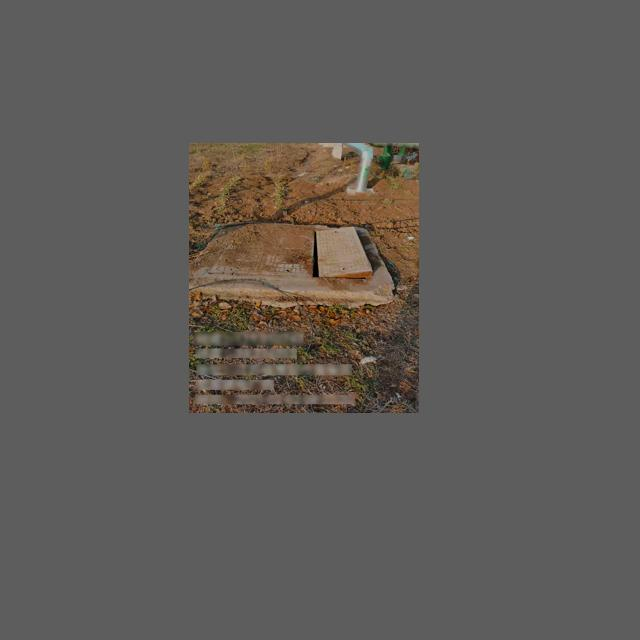uncovered: (207, 224, 373, 281)
